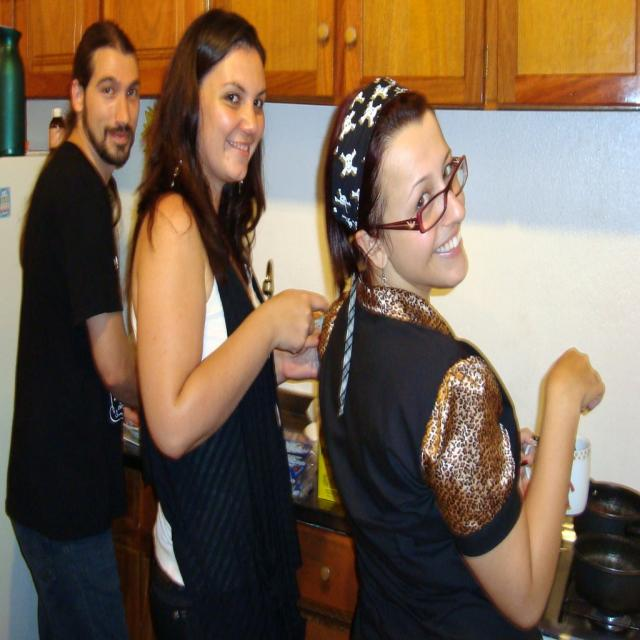Glasses: (370, 154, 471, 242)
